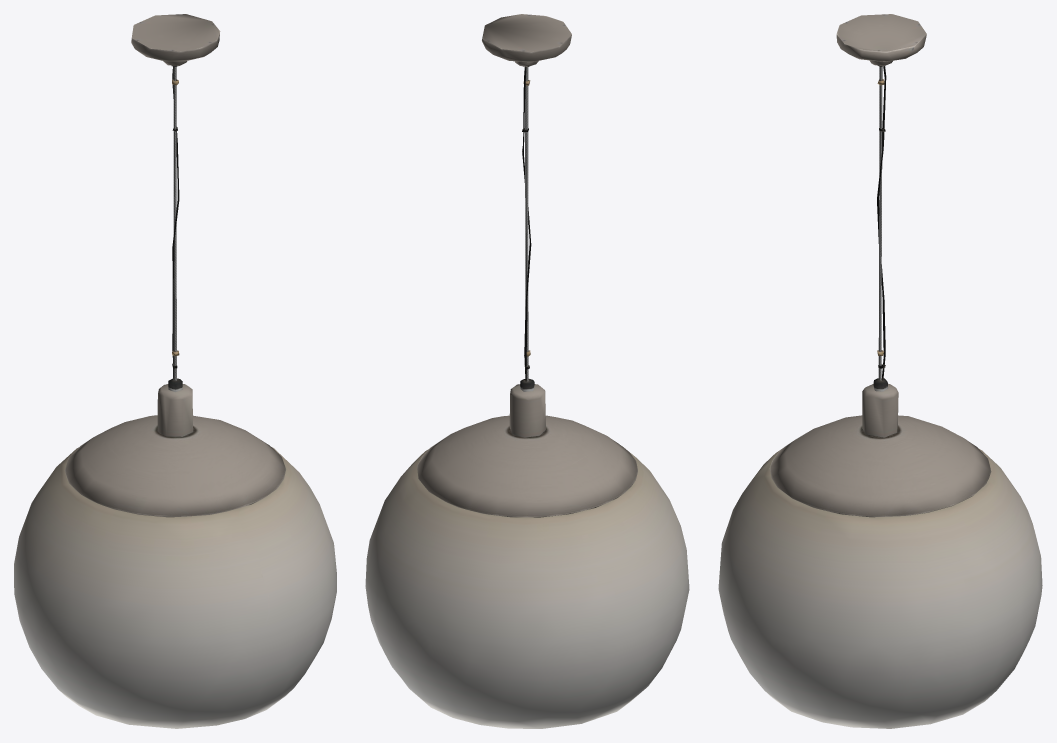
The model's file is modern_ceiling_lamp_01_1k_LOD1.fbx.
3 views of the same model, side by side, from view 1: azimuth 30°, elevation 25°; view 2: azimuth 150°, elevation 25°; view 3: azimuth 270°, elevation 25° (orthographic).
Visible parts, largest first — view 1: modern_ceiling_lamp_01; view 2: modern_ceiling_lamp_01; view 3: modern_ceiling_lamp_01.
Boxes of the visible parts, <box> form: modern_ceiling_lamp_01: <box>14,14,336,728</box>; modern_ceiling_lamp_01: <box>365,14,689,728</box>; modern_ceiling_lamp_01: <box>718,14,1042,728</box>.
Size of the model in its own units: 43.15 by 95.17 by 43.18.
Materials: 3 (3 with a texture image).
